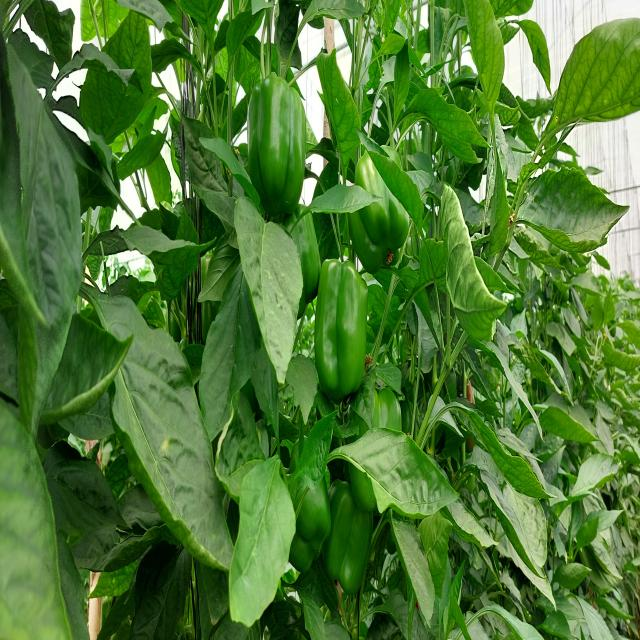Green--Not-ready-to-harvest: (244, 65, 308, 213), (274, 432, 332, 572), (348, 140, 411, 268), (263, 193, 323, 320), (318, 253, 370, 399), (348, 392, 408, 513), (322, 480, 373, 596)
